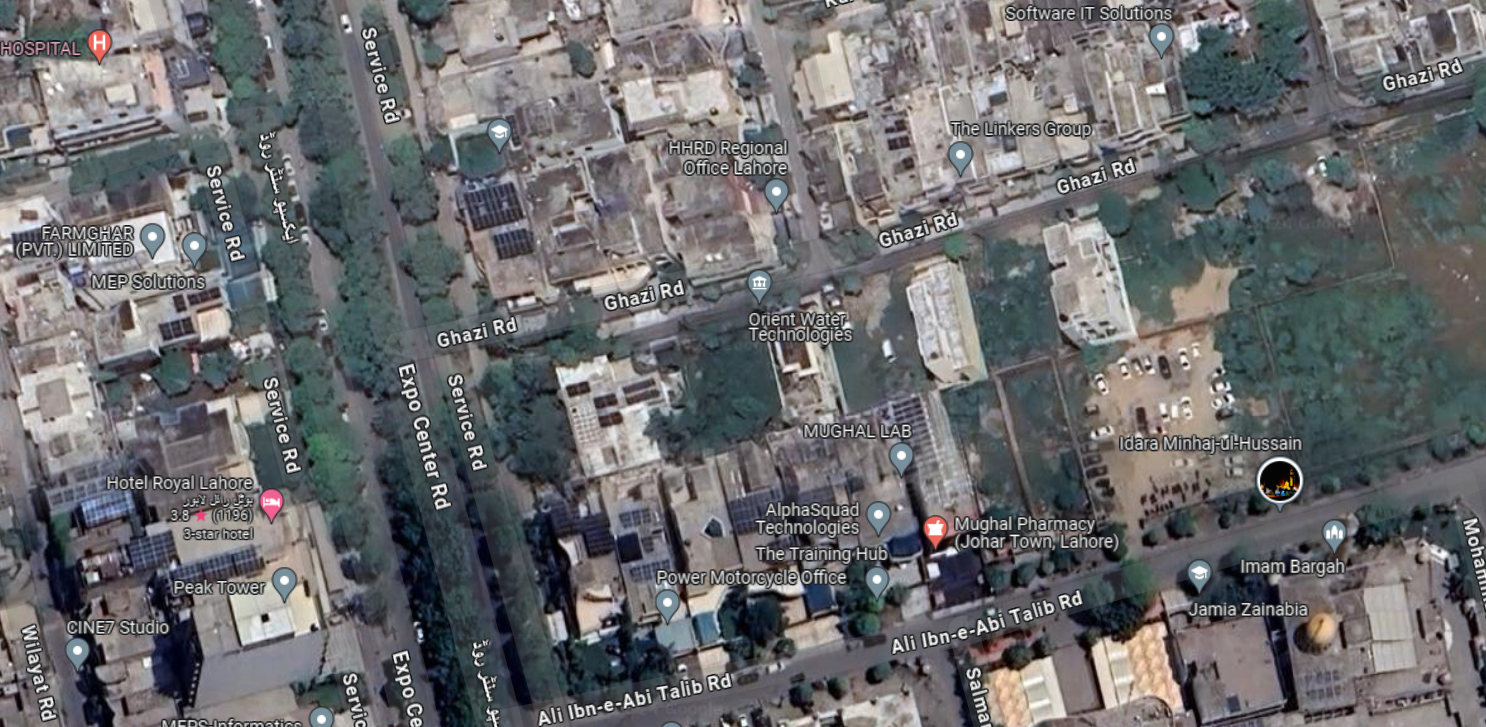solar-panel: (617, 511, 671, 581), (552, 496, 615, 554), (167, 553, 257, 589), (899, 402, 937, 466), (457, 187, 526, 222), (732, 488, 785, 531), (571, 381, 624, 423), (883, 117, 915, 177), (47, 469, 124, 490), (82, 499, 131, 525), (1308, 671, 1348, 699), (131, 540, 174, 566), (493, 232, 533, 259), (164, 290, 226, 305), (633, 372, 662, 401), (158, 321, 199, 336), (17, 231, 46, 243), (1230, 693, 1244, 709)
